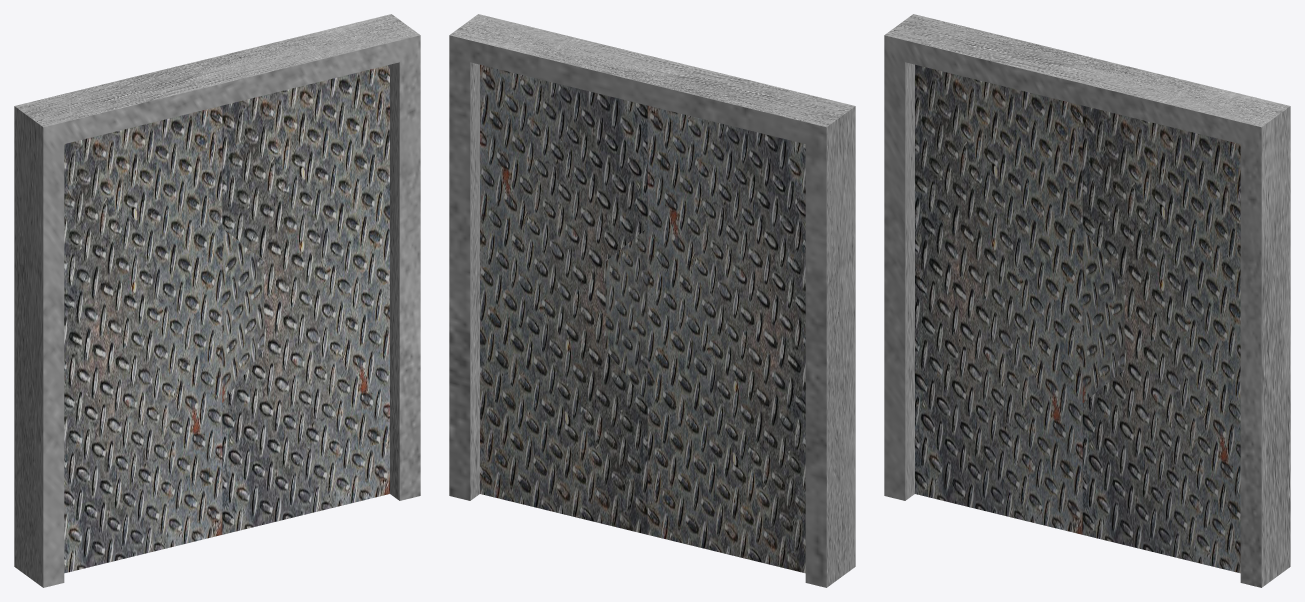
Rendered from door.glb.
The picture shows the model from 3 angles, left to right: view 1: azimuth 30°, elevation 25°; view 2: azimuth 150°, elevation 25°; view 3: azimuth 330°, elevation 25°; orthographic projection.
Parts seen in each view (by area): view 1: door_r, door_l, door; view 2: door_r, door_l, door; view 3: door_r, door_l, door.
Boxes of the visible parts, x1=… form: door_r: x1=64, y1=105, x2=264, y2=573; door_l: x1=222, y1=64, x2=389, y2=534; door: x1=14, y1=14, x2=420, y2=587; door_r: x1=605, y1=105, x2=805, y2=573; door_l: x1=480, y1=64, x2=647, y2=534; door: x1=449, y1=14, x2=855, y2=587; door_r: x1=915, y1=64, x2=1124, y2=534; door_l: x1=1082, y1=105, x2=1240, y2=573; door: x1=884, y1=14, x2=1290, y2=587.
Size of the model in its own units: 9 by 10.5 by 1.2.
3 materials, 3 textured.
